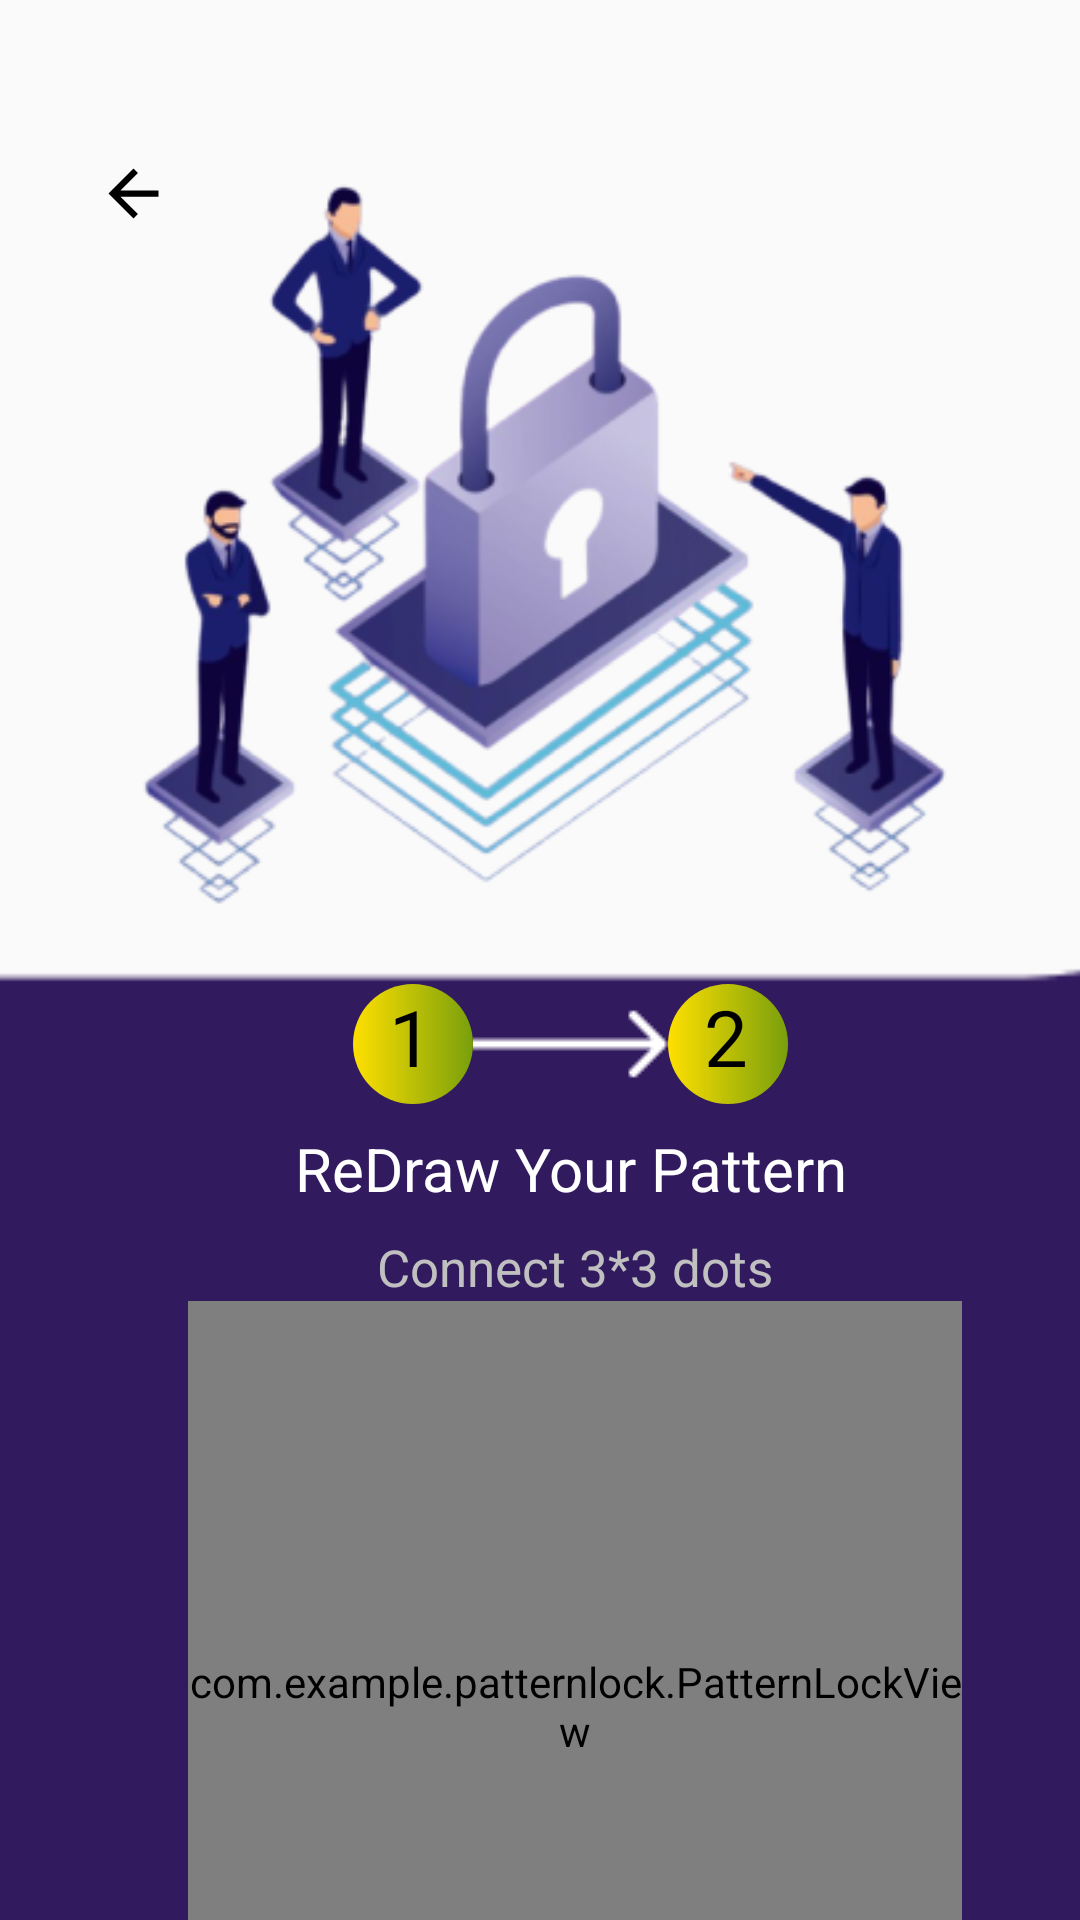

Point at icon controls on the screen. Image size 1080 x 1920, points as point (x, y).
Back Arrow: point (133, 193)
whitearrow: point (570, 1044)
